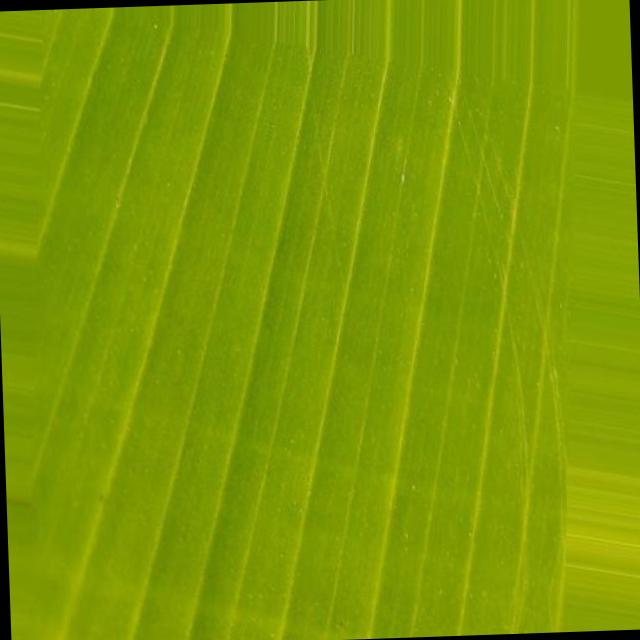Banana_Healthy: (136, 115, 524, 475)
